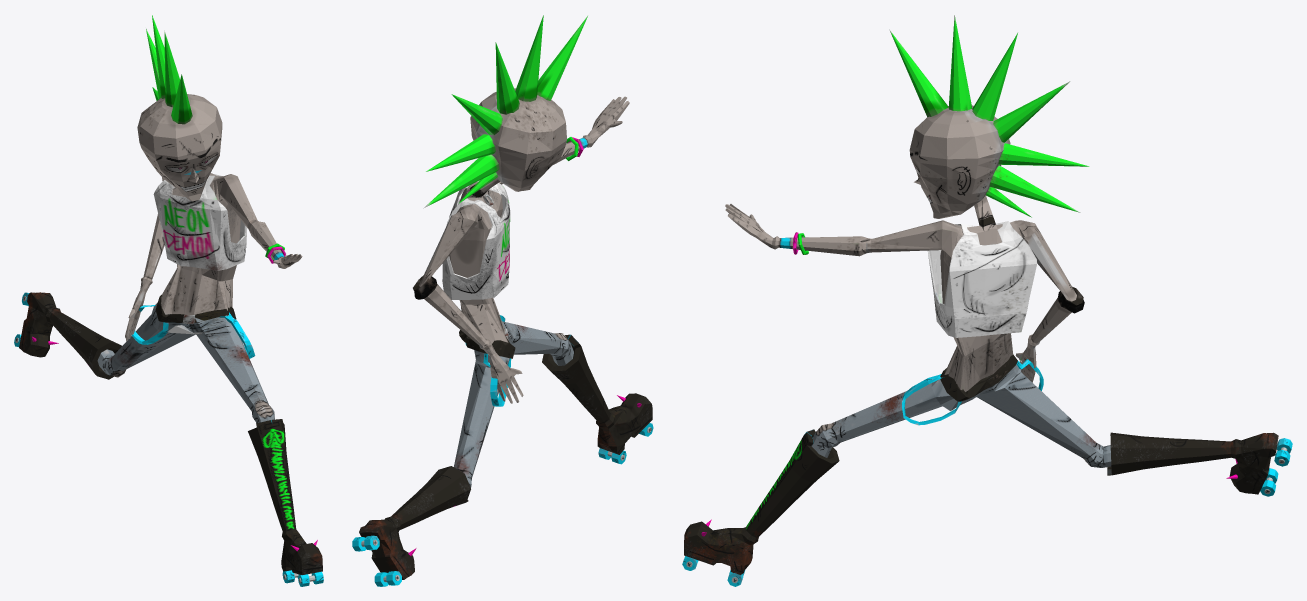
File: punkAnimation_000031.obj
3 views of the same model, side by side, from view 1: azimuth 30°, elevation 25°; view 2: azimuth 150°, elevation 25°; view 3: azimuth 270°, elevation 25° (orthographic). The views are drawn at different scales.
Parts seen in each view (by area): view 1: Cube.004_Cube.003; view 2: Cube.004_Cube.003; view 3: Cube.004_Cube.003.
Boxes of the visible parts, x1=… form: Cube.004_Cube.003: x1=14, y1=15, x2=323, y2=586; Cube.004_Cube.003: x1=352, y1=15, x2=653, y2=586; Cube.004_Cube.003: x1=682, y1=15, x2=1292, y2=586.
Size of the model in its own units: 1.35 by 6.38 by 6.42.
